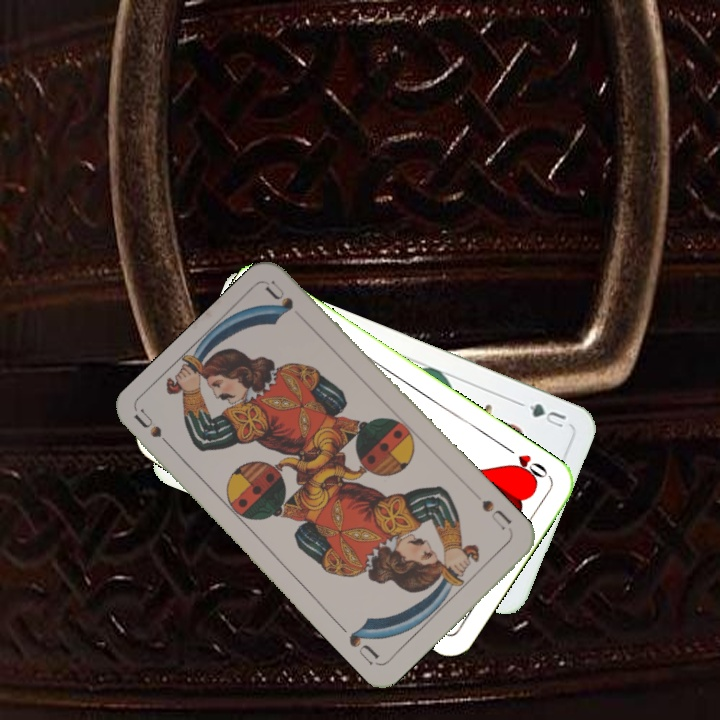GU: (525, 399, 569, 432)
HO: (500, 442, 552, 485)
SU: (131, 406, 180, 456), (477, 495, 516, 536)
